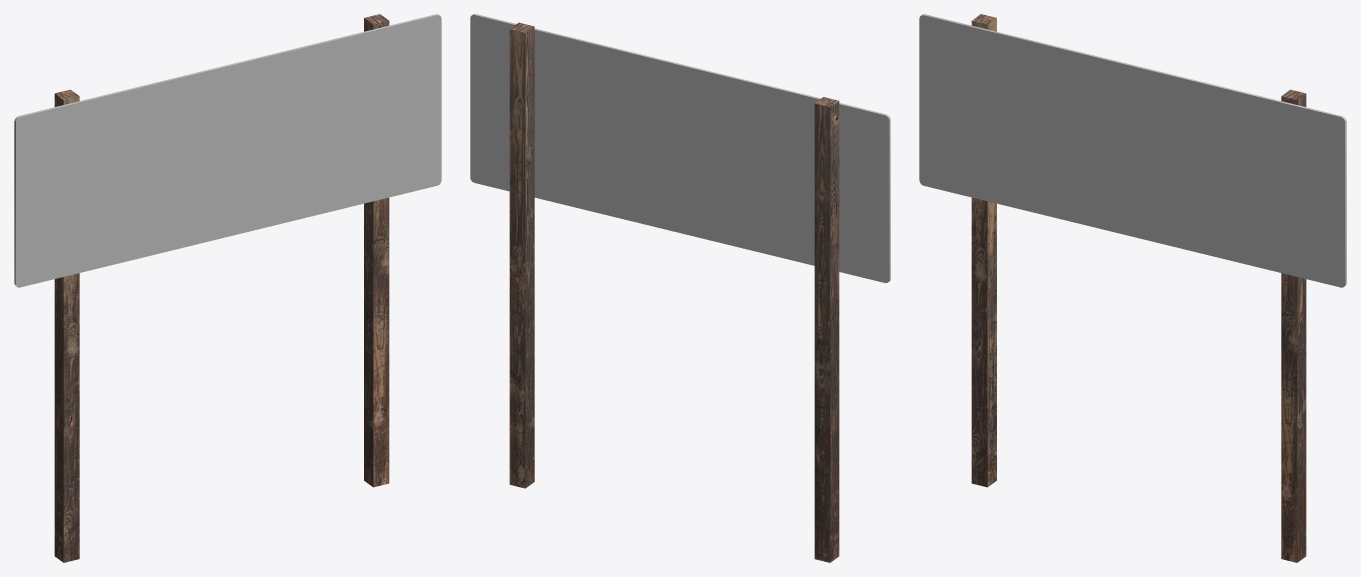
Rendered from YOS_Sign_08.fbx.
3 renders of one model, left to right at view 1: azimuth 30°, elevation 25°; view 2: azimuth 150°, elevation 25°; view 3: azimuth 330°, elevation 25°, orthographic.
Visible parts, largest first — view 1: Sign, WoodPost; view 2: Sign, WoodPost; view 3: Sign, WoodPost.
Part boxes in pixels (left/top/right/bottom): Sign: left=14, top=14, right=441, bottom=287; WoodPost: left=54, top=14, right=389, bottom=562; Sign: left=470, top=14, right=890, bottom=283; WoodPost: left=509, top=22, right=839, bottom=562; Sign: left=919, top=14, right=1346, bottom=287; WoodPost: left=971, top=14, right=1306, bottom=562.
Bounding box in the file's own units: 193 × 200 × 8.91.
